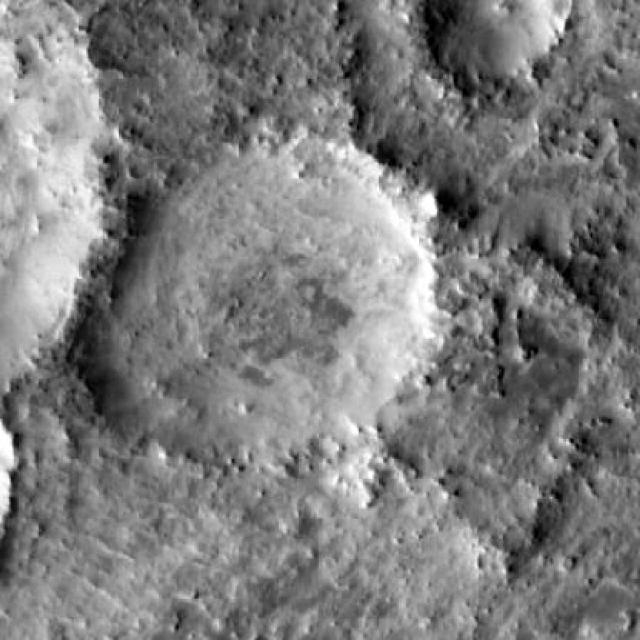crater: (206, 206, 588, 569), (78, 121, 446, 470), (424, 0, 572, 89)
